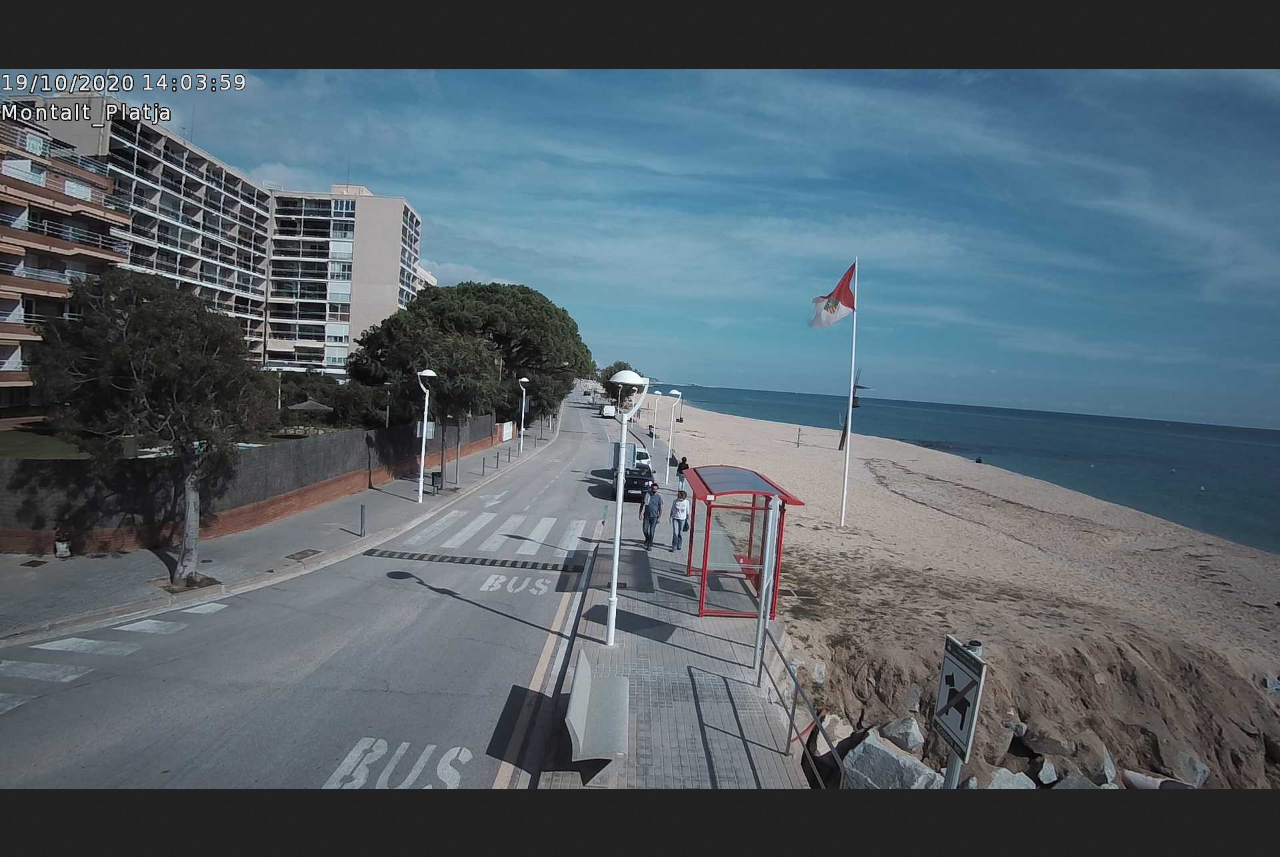maybe: (802, 263, 861, 333)
